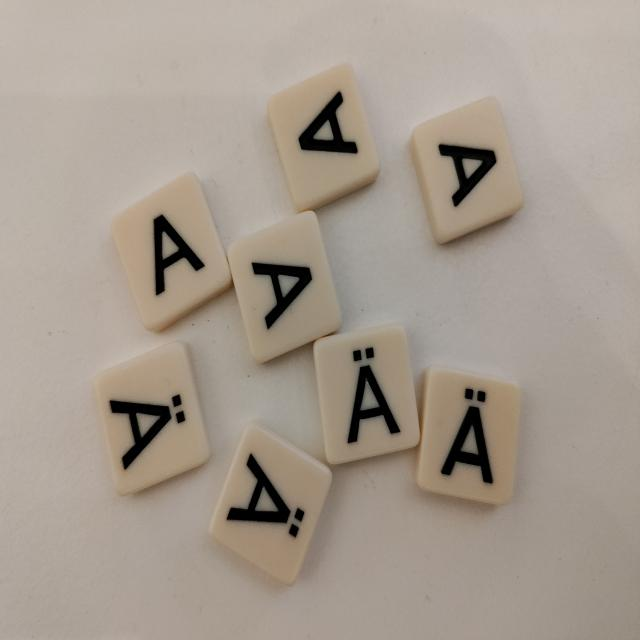a: (108, 170, 234, 334), (226, 208, 346, 369), (265, 61, 386, 216), (409, 92, 527, 248)
a_dot: (205, 419, 335, 590), (91, 338, 216, 500), (413, 366, 525, 508), (313, 325, 423, 466)
